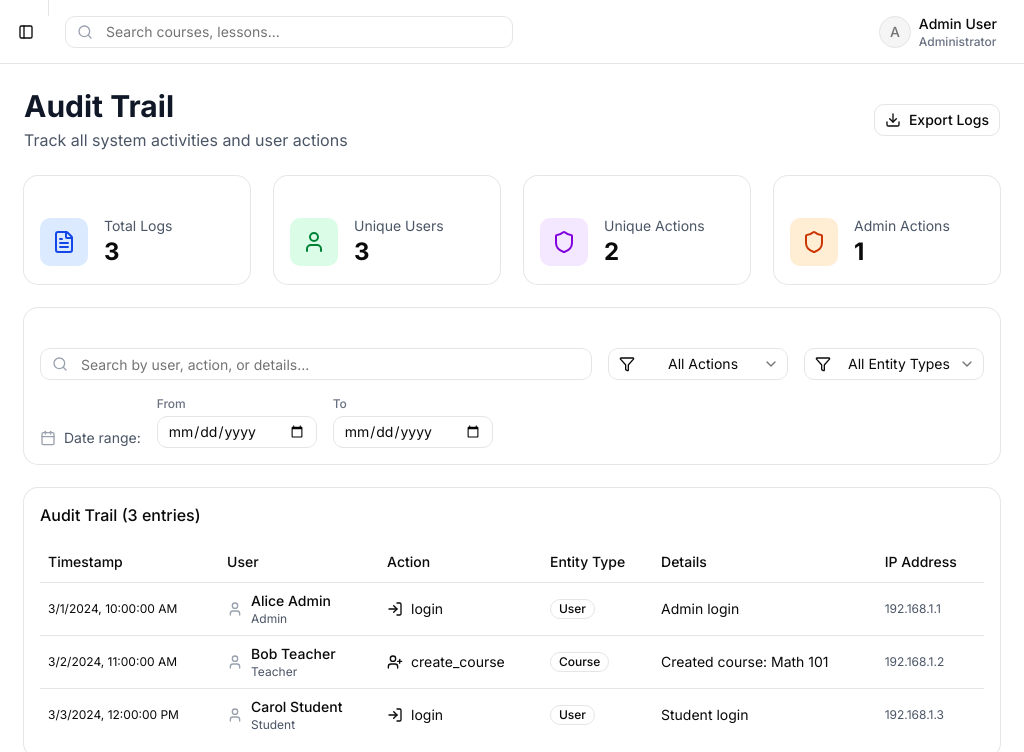
Test case: Admin System Page - Date Range Filter (6.5) › clears date filters when "Clear dates" is clicked
Expected: the text "Alice Admin" is shown, left=251, top=590, right=331, bottom=610
Type "2024-03-01" into the date field named "start date".
click(237, 432); type("2024-03-01")  # box left=157, top=416, right=317, bottom=448
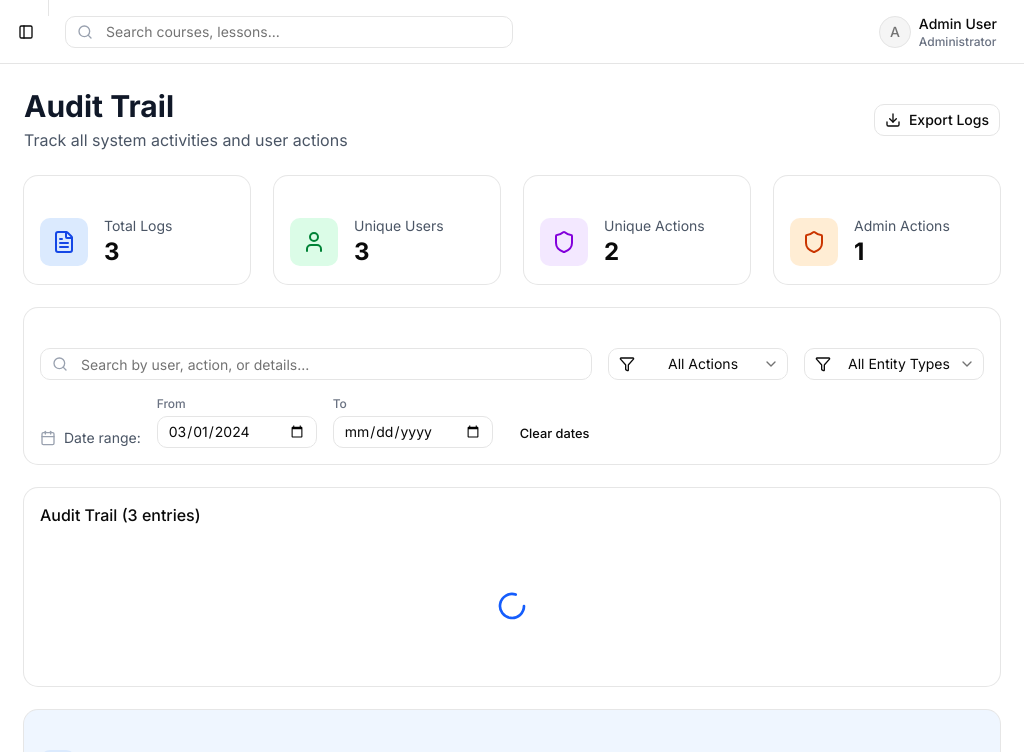
Click the button "Clear dates".
click(555, 434)  # box left=509, top=420, right=600, bottom=448
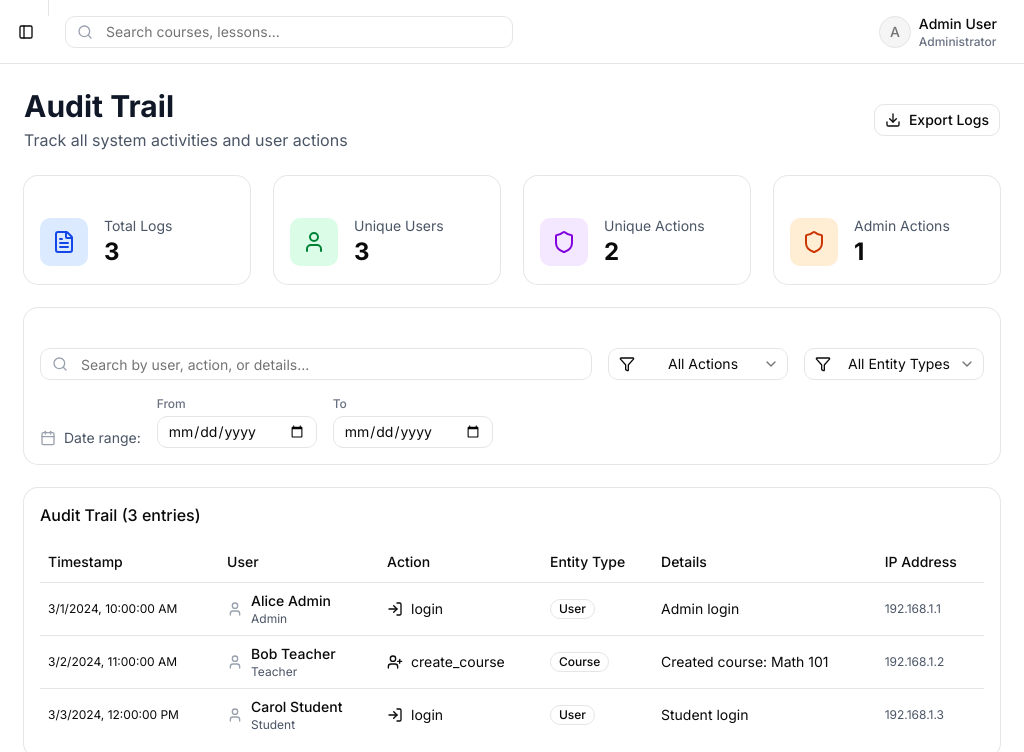
Now the date field named "start date" is empty, box left=157, top=416, right=317, bottom=448
